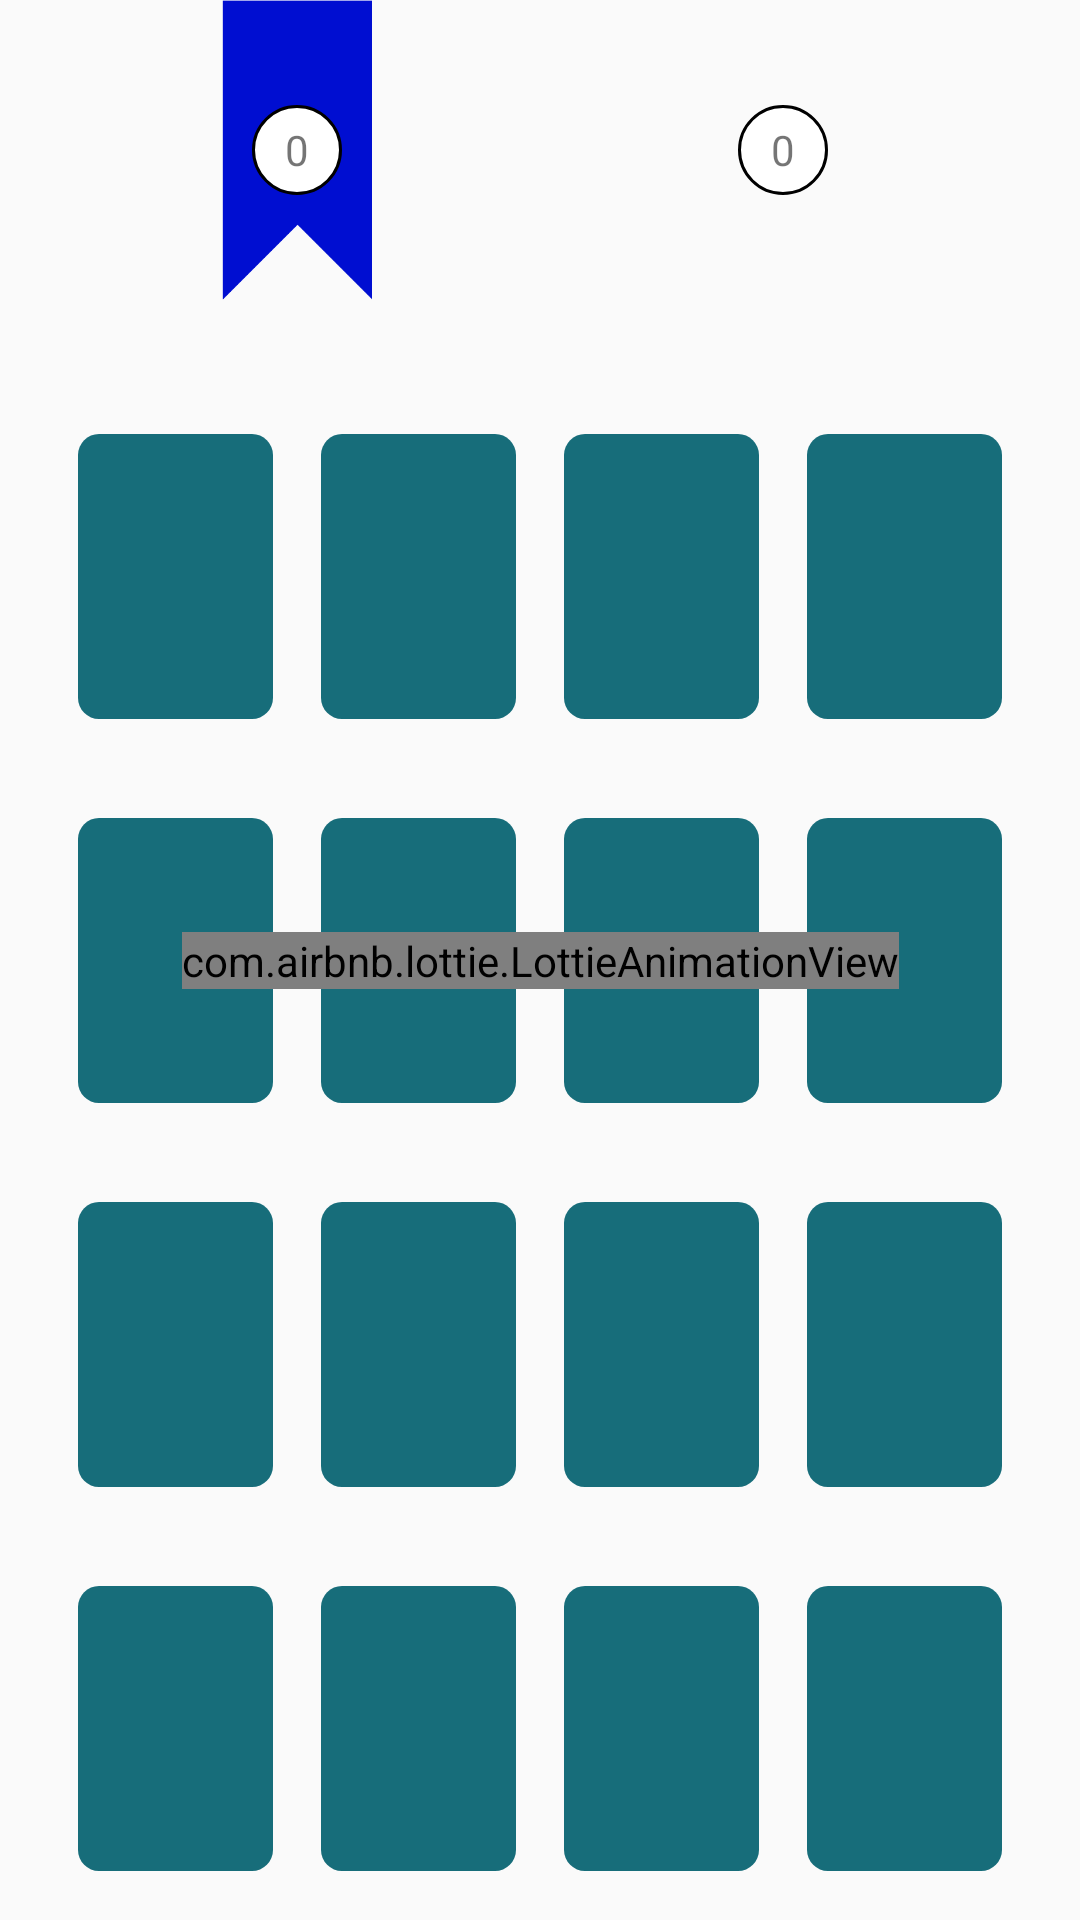

Where to tap for icons on this 1080*1920 app screen, as (x,y):
first player score: (297,149)
